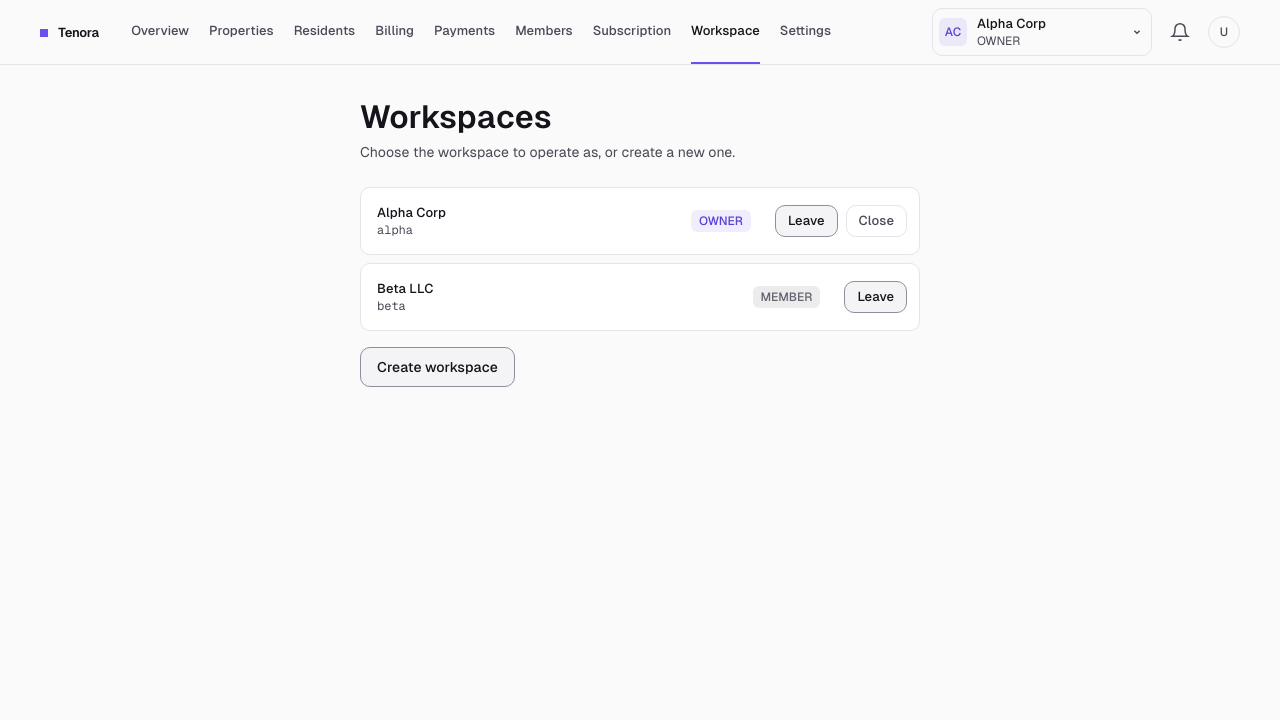
Test: WorkspacePage — leaving and closing without switching first › leaves the workspace whose row was clicked, not the active one
Click the 2nd button "Leave".
click(876, 297)  # box [844,281,907,313]
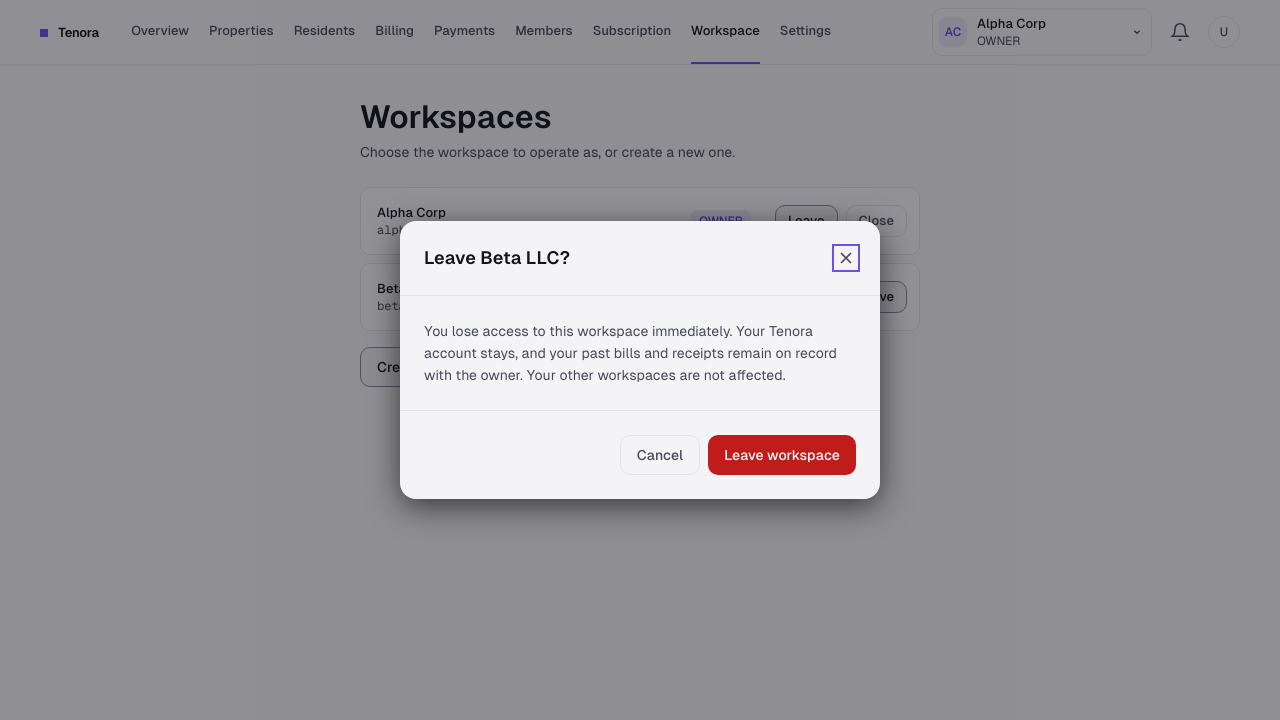
Expected: the dialog shows "Leave Beta LLC?", [424,247,570,268]
Click the button "Leave workspace".
click(782, 455)  # box [708,435,856,475]
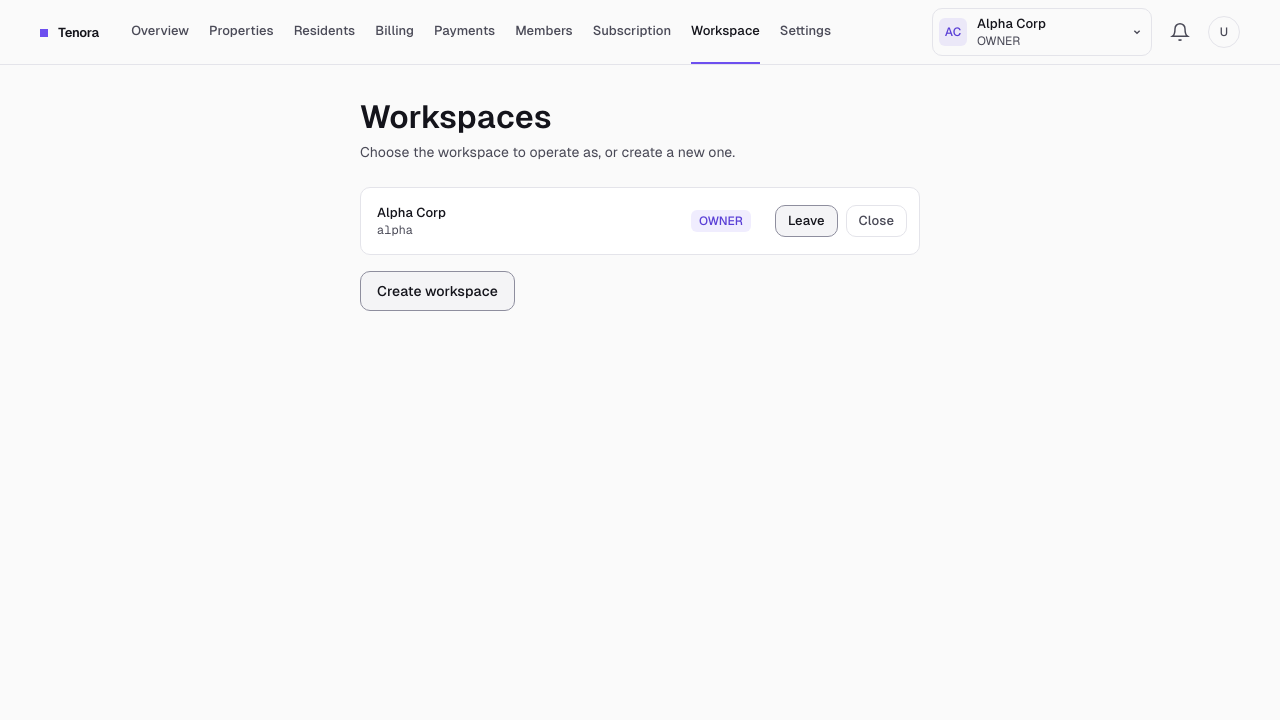
Expected: the text "Alpha Corp" below "Workspaces" is shown, [377,205,446,220]
Expected: the button "Beta LLC" is gone
